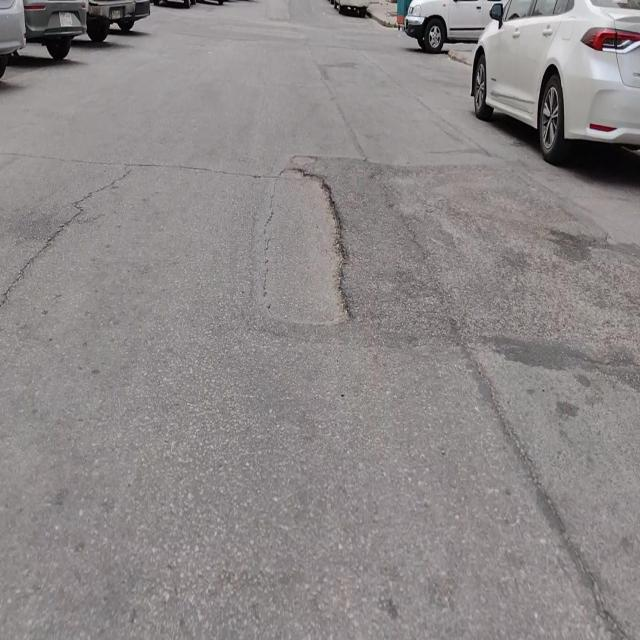Pothole: (262, 163, 352, 329)
